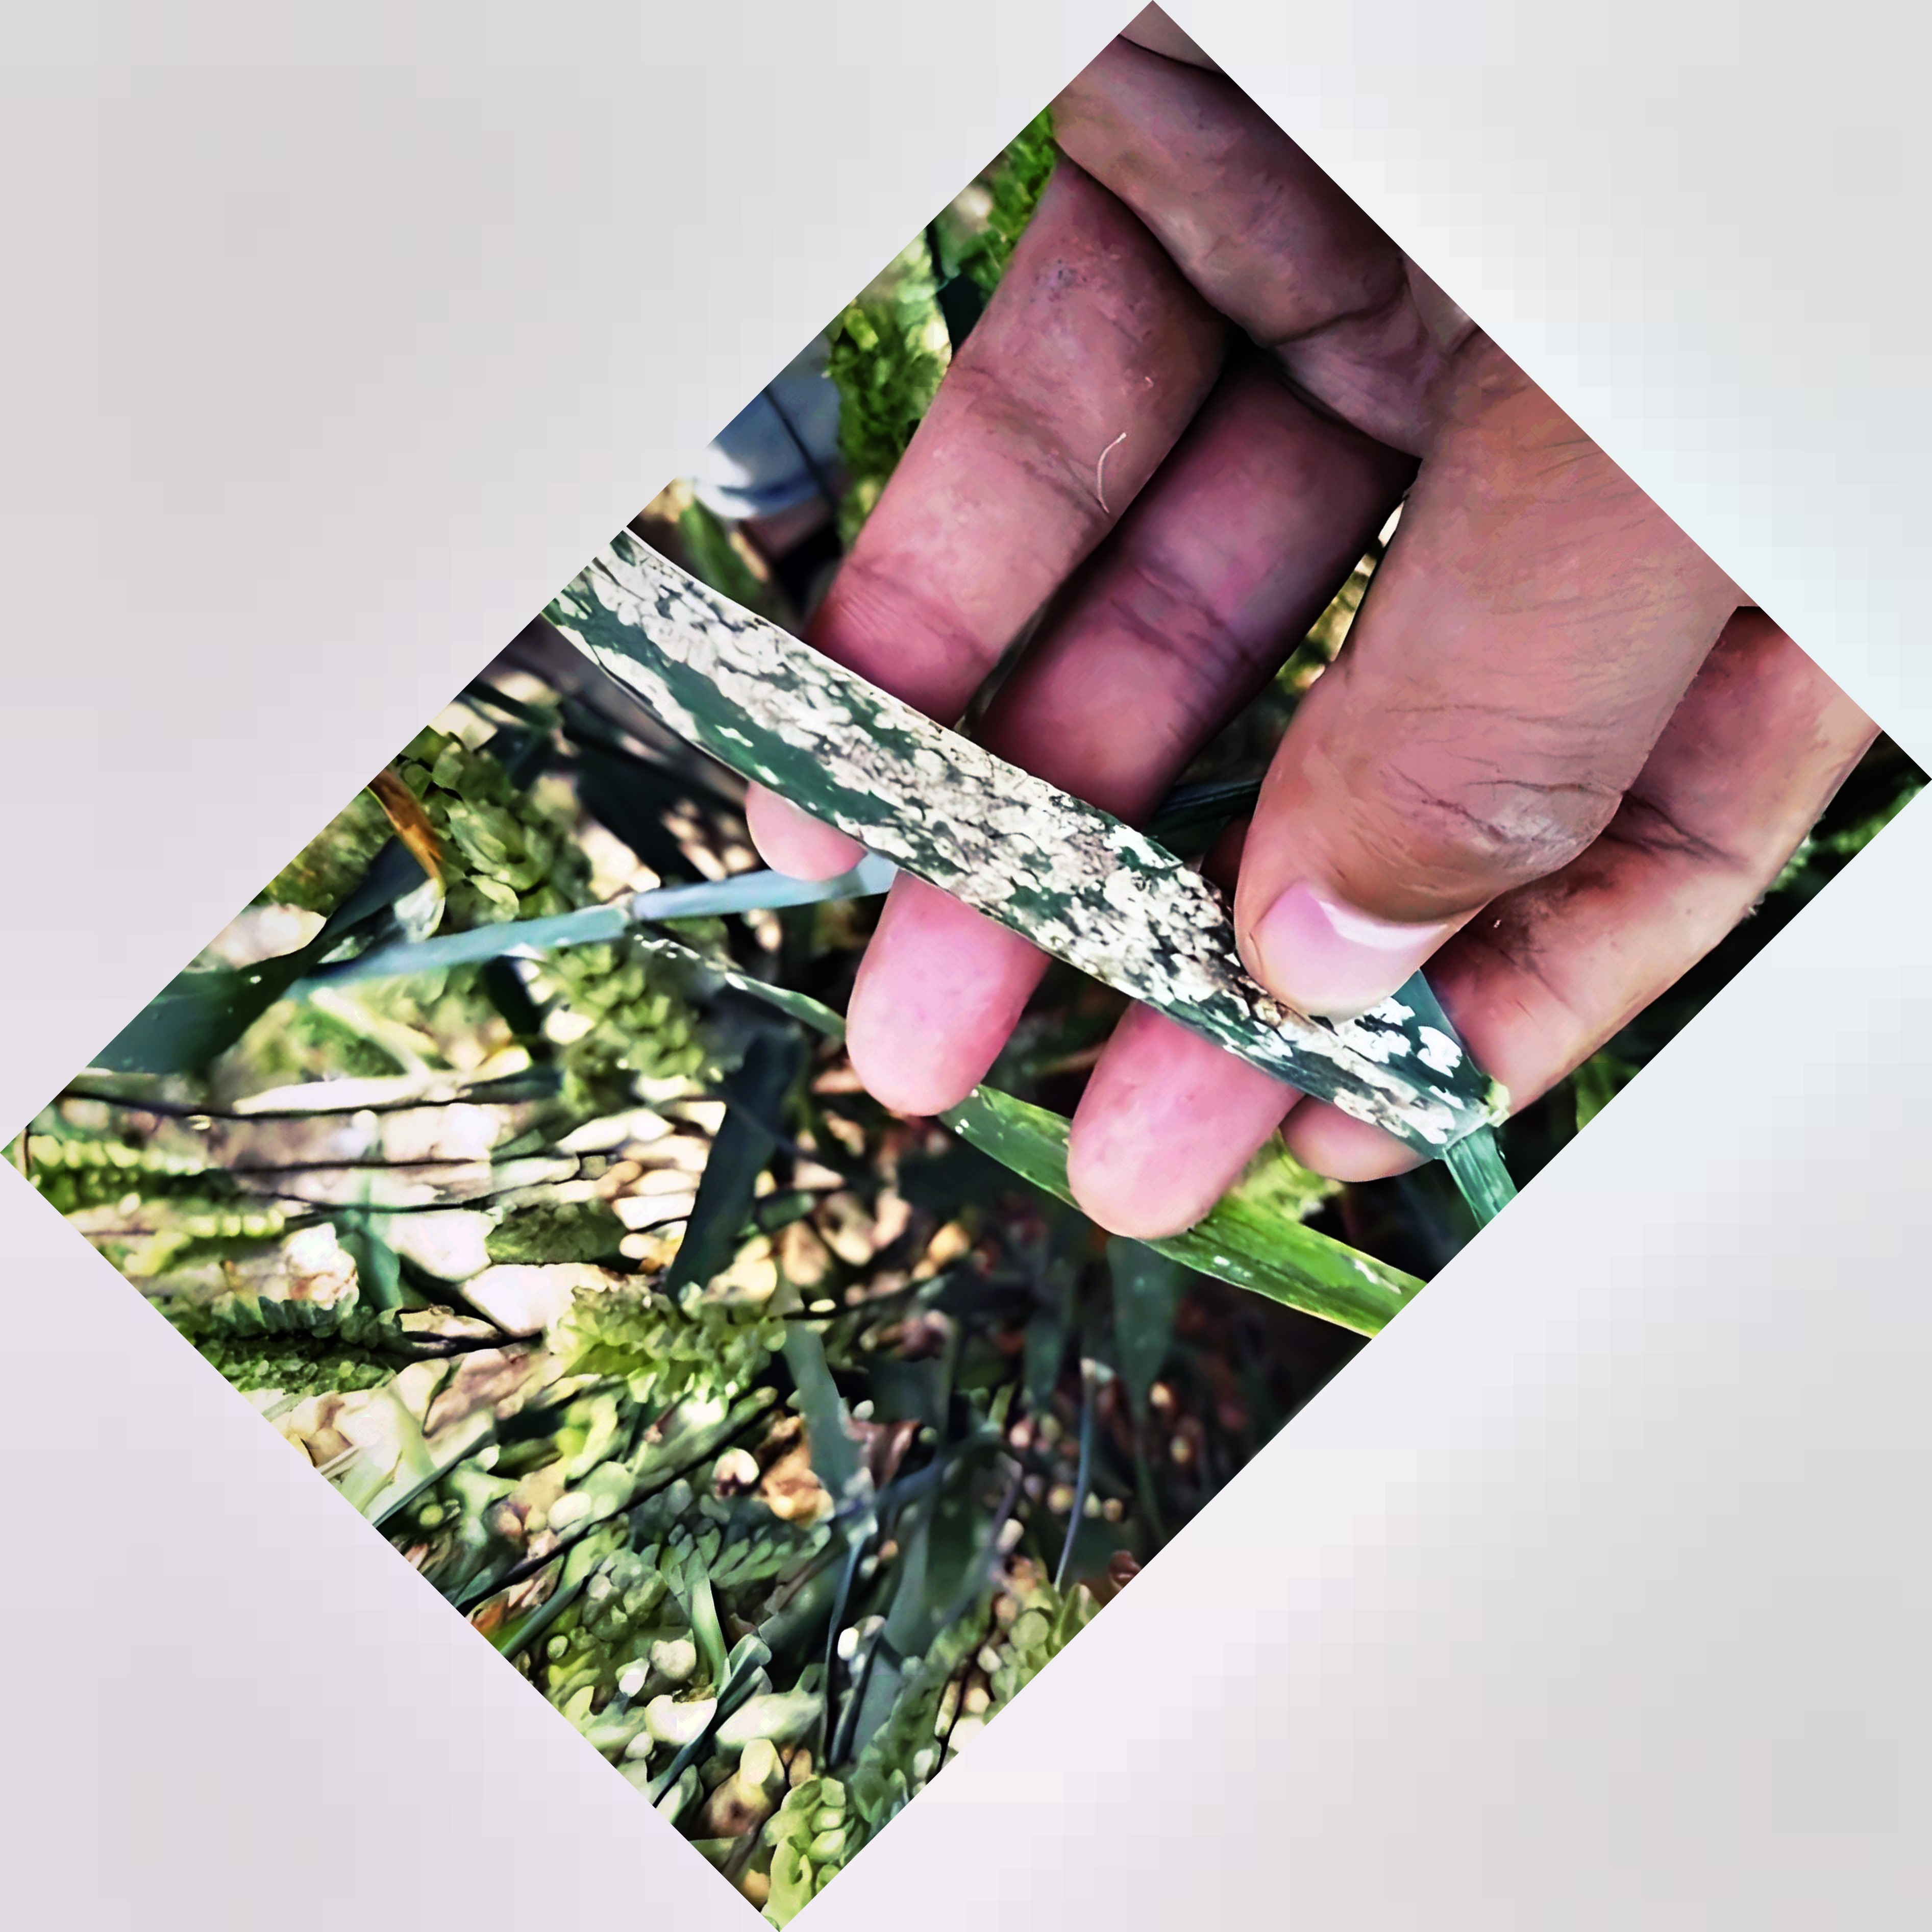Powdery Mildew: (625, 579, 1449, 1127)
